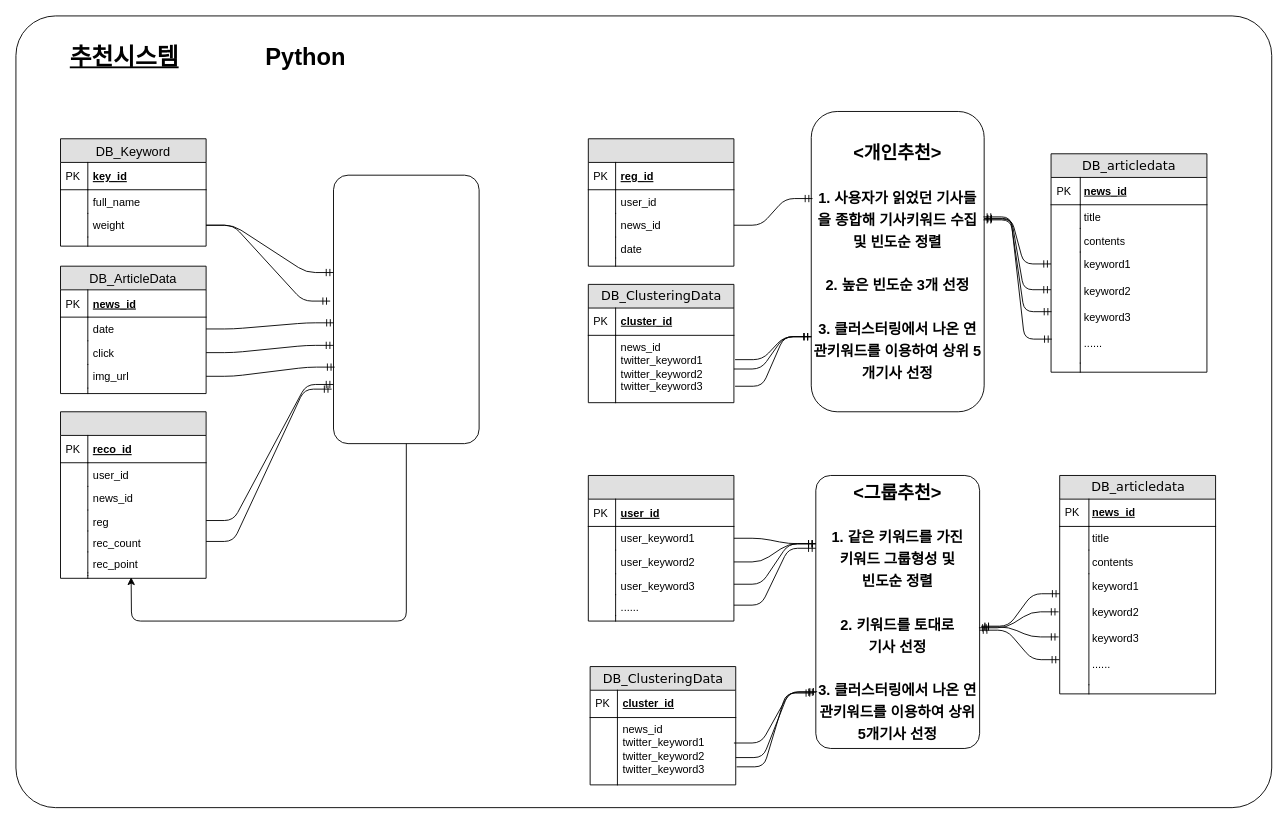
Image size: 1288x824. Some labels were removed from this diagram. Here are the shapes that lost their labels. From the top down, the box of each, then its label:
(587, 138, 734, 266): DB_NewsReg
(333, 174, 479, 444): <전체추천> 1. 언론사 기본점수 2. 키워드 5개 가중치 3. 시간 4. 조회수 5. 이미지 6. 추천확률
(60, 411, 206, 578): DB_RecNews
(587, 475, 734, 621): DB_UserData
